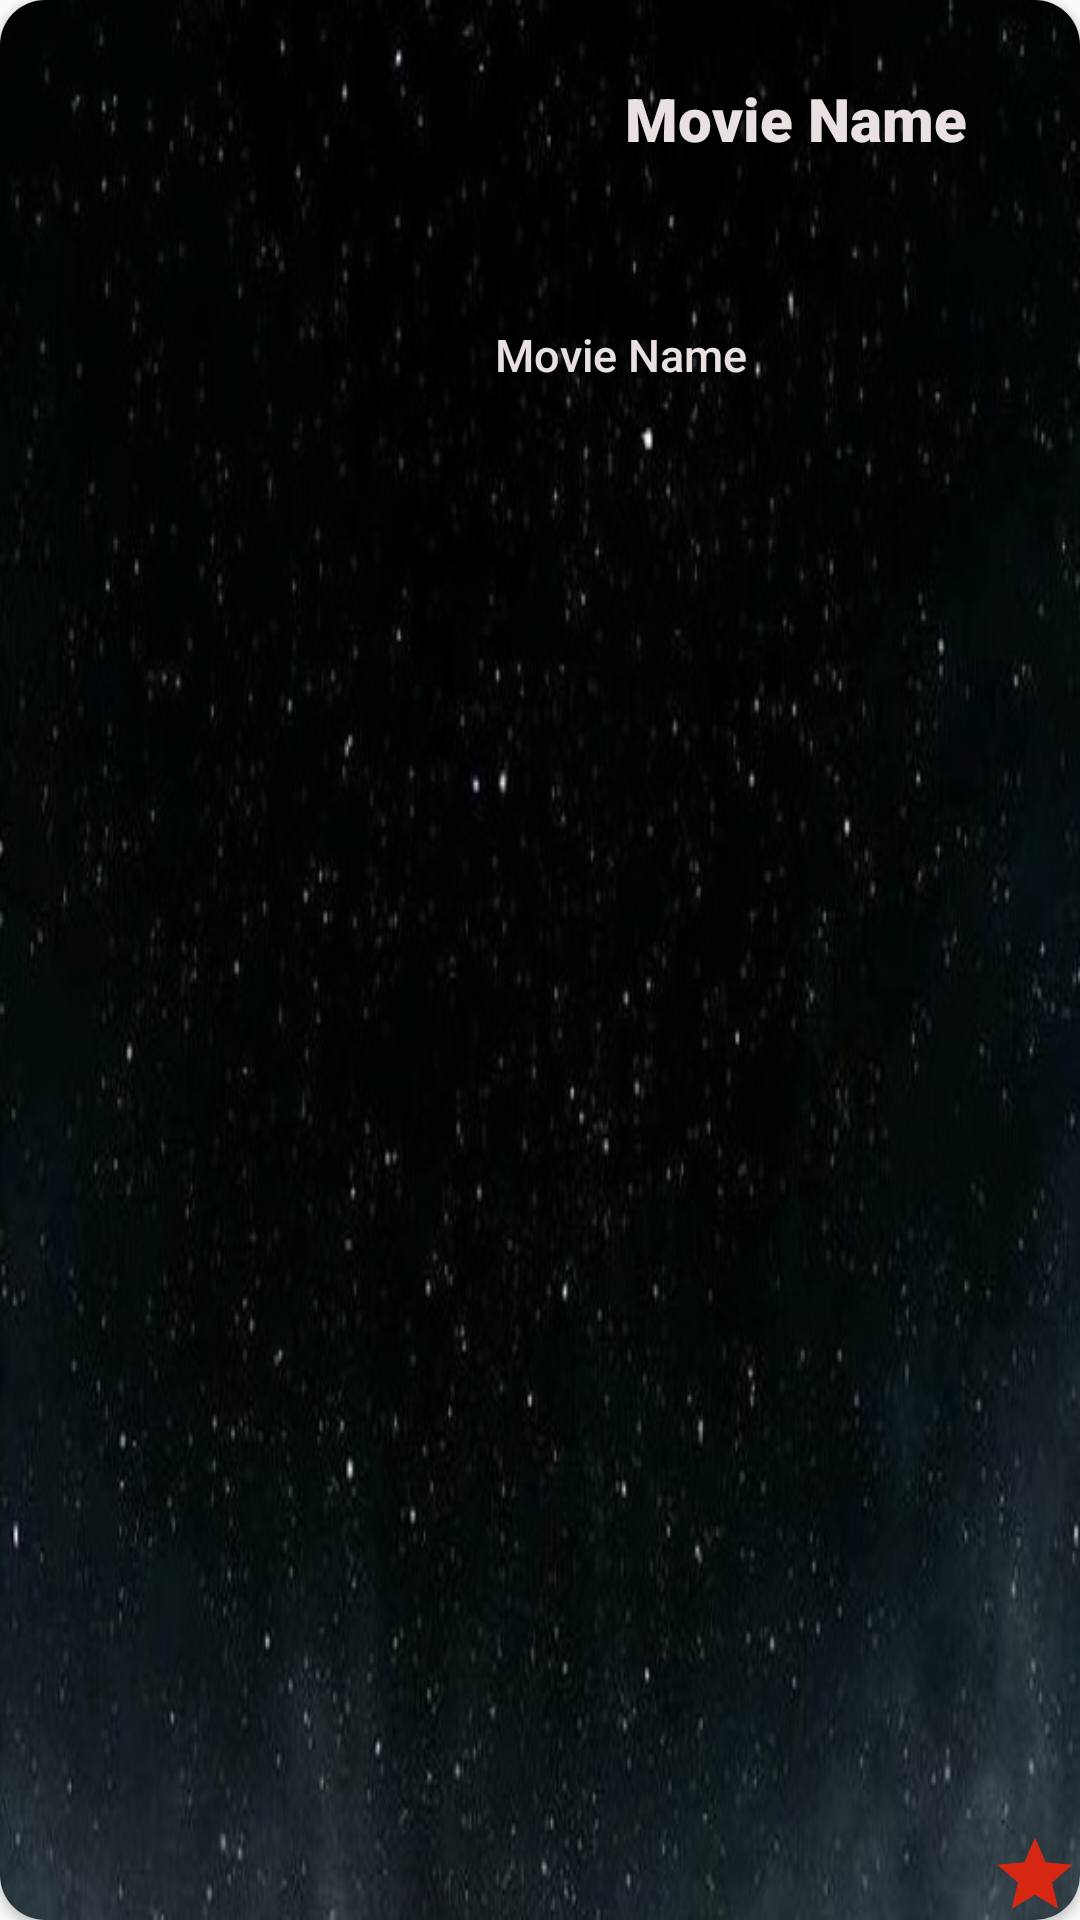

Point at icon controls on the screen. Image size 1080×1920, points as (x,y).
star: (1035,1879)
